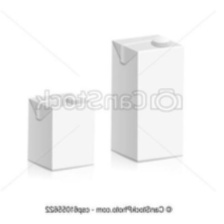carton: (105, 31, 189, 166), (20, 89, 98, 172)
